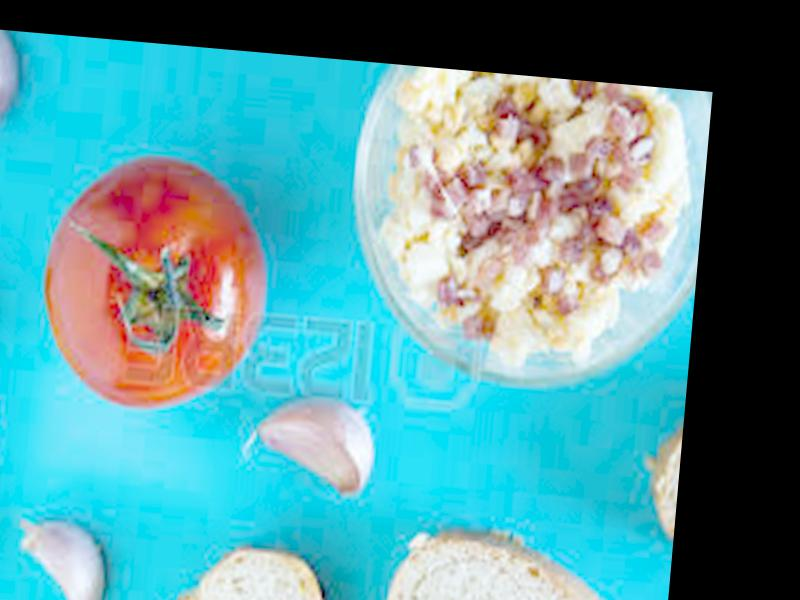Tomato: (33, 149, 267, 419)
